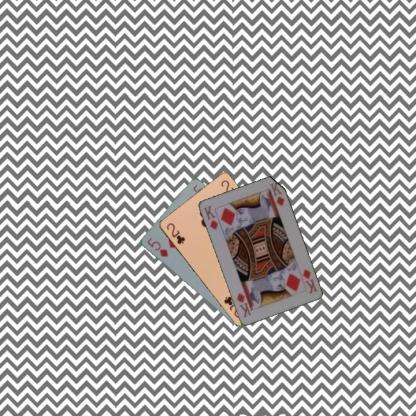2c: (164, 220, 186, 246)
5d: (144, 235, 170, 258)
Kd: (300, 266, 318, 295), (201, 203, 219, 231)
